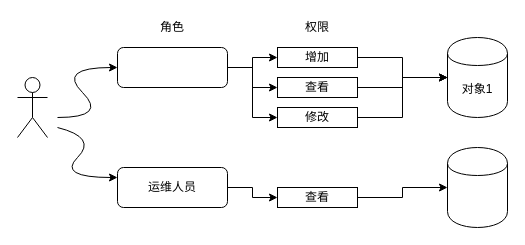
The diagram is 525 pixels wide and 245 high, and some of its shapes have lost their labels. The shapes that lost their labels are listed below. From the top down, each one's centre as x and y in pixels, then its label:
the point at 172,67: 配置管理员
the point at 32,107: 人员
the point at 477,187: 对象2
